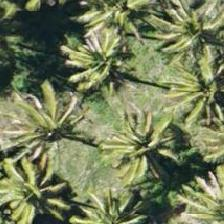coconut_tree: (99, 104, 189, 194), (12, 78, 102, 168), (0, 145, 59, 223), (50, 176, 140, 223), (169, 174, 223, 223)
